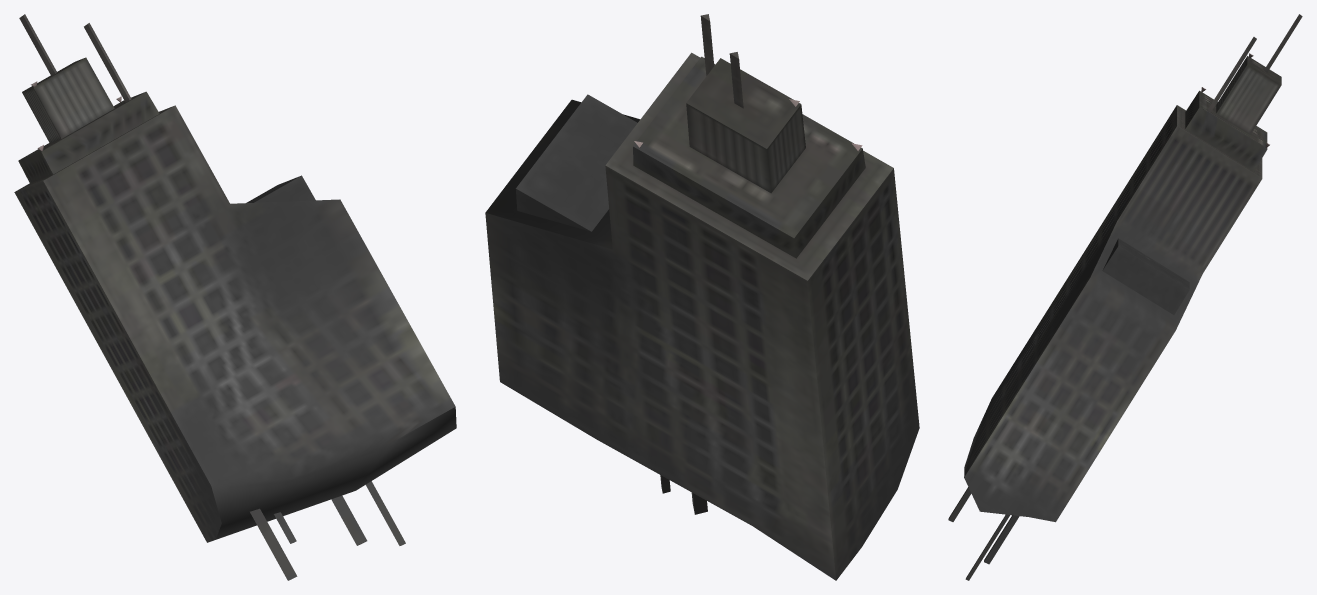
File: skyBuildingAAB_pos_grp (15).fbx
3 views of the same model, side by side, from view 1: azimuth 30°, elevation 25°; view 2: azimuth 150°, elevation 25°; view 3: azimuth 270°, elevation 25° (orthographic). The views are drawn at different scales.
Visible parts, largest first — view 1: skyBuildingAAB_geo; view 2: skyBuildingAAB_geo; view 3: skyBuildingAAB_geo.
Part boxes in pixels (bbox=[...]): skyBuildingAAB_geo: bbox=[14, 14, 456, 580]; skyBuildingAAB_geo: bbox=[485, 14, 919, 580]; skyBuildingAAB_geo: bbox=[948, 14, 1302, 580].
Size of the model in its own units: 6.78 by 9.41 by 6.54.
